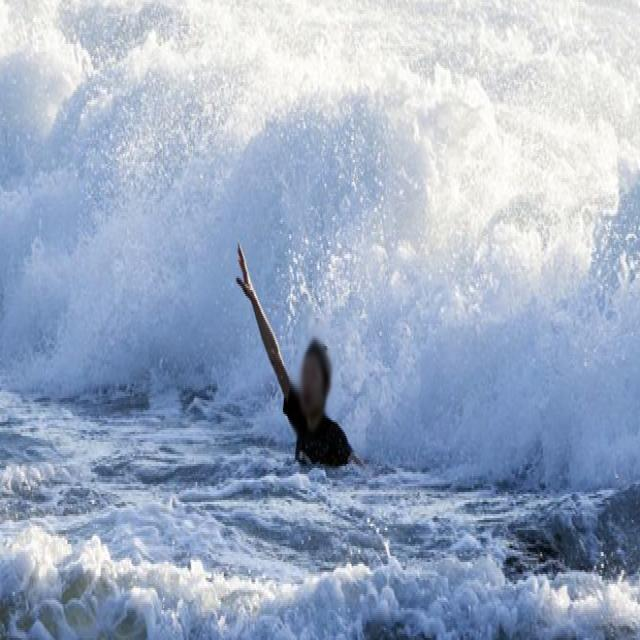drowning: (216, 203, 422, 592)
